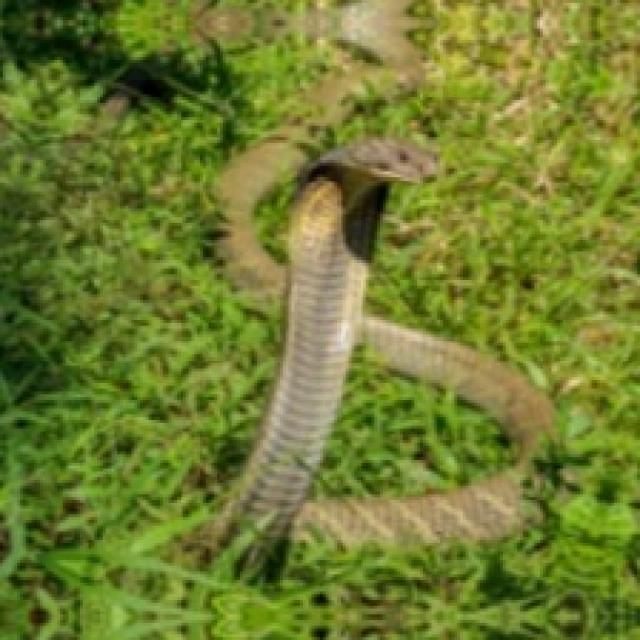king cobra: (186, 0, 551, 563), (303, 340, 517, 500)
